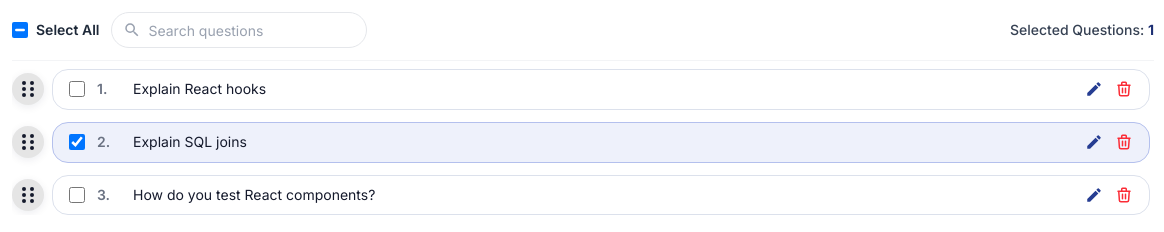
QuestionList › preserves hidden selections when selecting and deselecting search results
Type "React" into the search field at {"x": 240, "y": 30}, box [112,12,368,48]
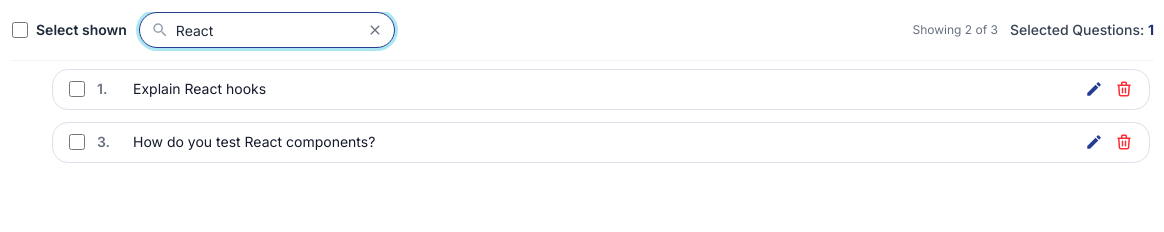
Click the checkbox labelled "Select shown" at {"x": 20, "y": 30}, box [12,22,28,38]
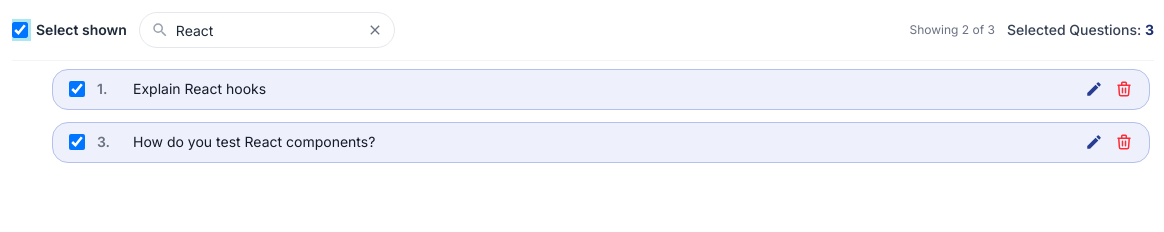
Check: the text "Selected Questions: 3" is shown, box [1007,20,1154,40]
Click the checkbox labelled "Select shown" at {"x": 20, "y": 30}, box [12,22,28,38]
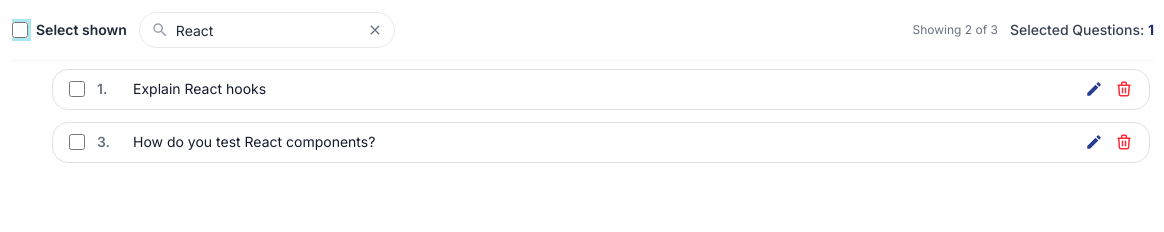
Check: the text "Selected Questions: 1" is shown, box [1010,20,1154,40]
Click the button named "Clear search" at {"x": 375, "y": 30}, box [363,18,387,42]
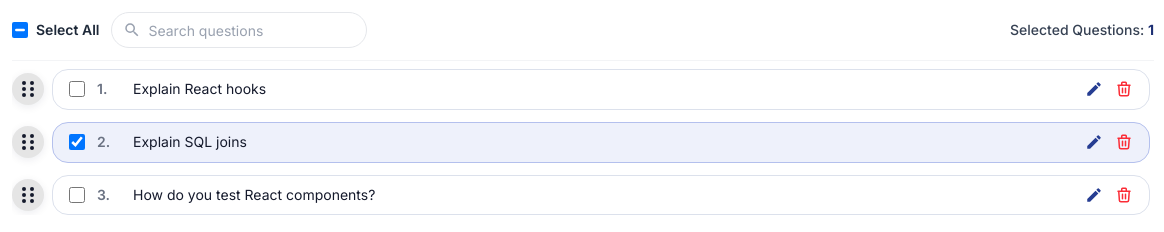
Check: the checkbox named "Select question" in the row of "Explain SQL joins" is checked, box [69,134,85,150]
